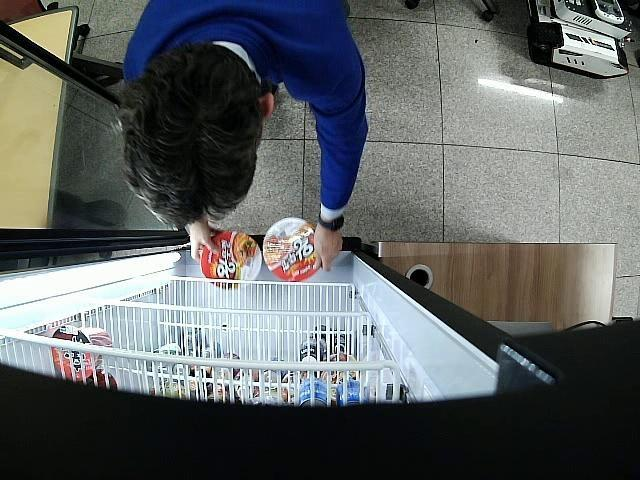10_wangTtukkeong: (201, 232, 262, 290), (263, 218, 320, 280)
